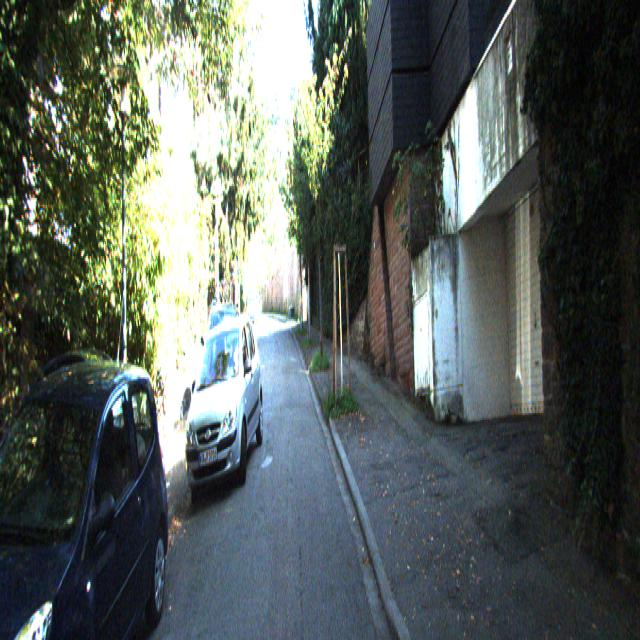Car: (0, 340, 175, 638), (180, 304, 265, 496)
